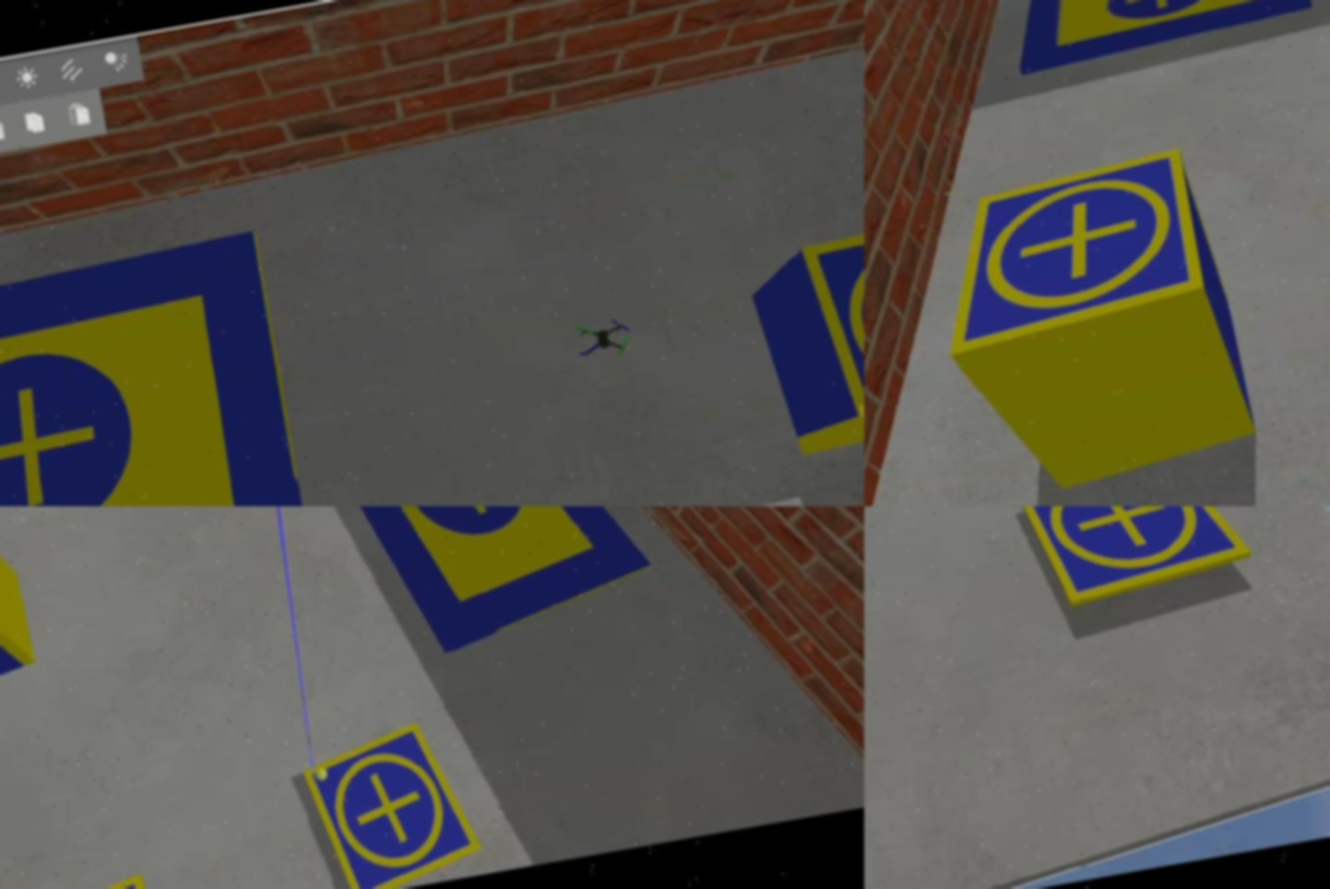large_base: (1, 229, 315, 506), (303, 506, 662, 672), (1003, 1, 1319, 77)
small_base: (919, 146, 1211, 358), (299, 716, 488, 889), (1012, 506, 1257, 617), (801, 202, 865, 443), (2, 868, 159, 889)
